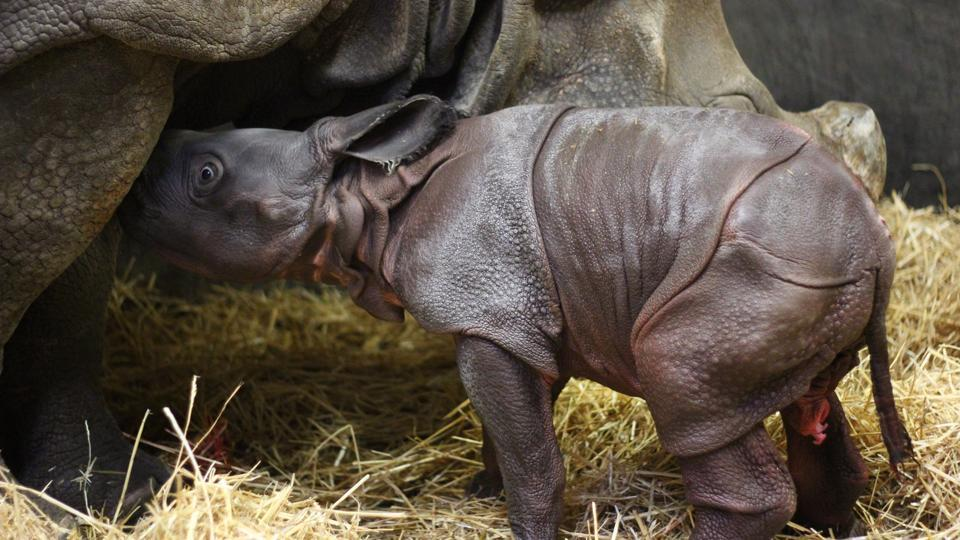rhinoceros: (113, 100, 907, 540)
